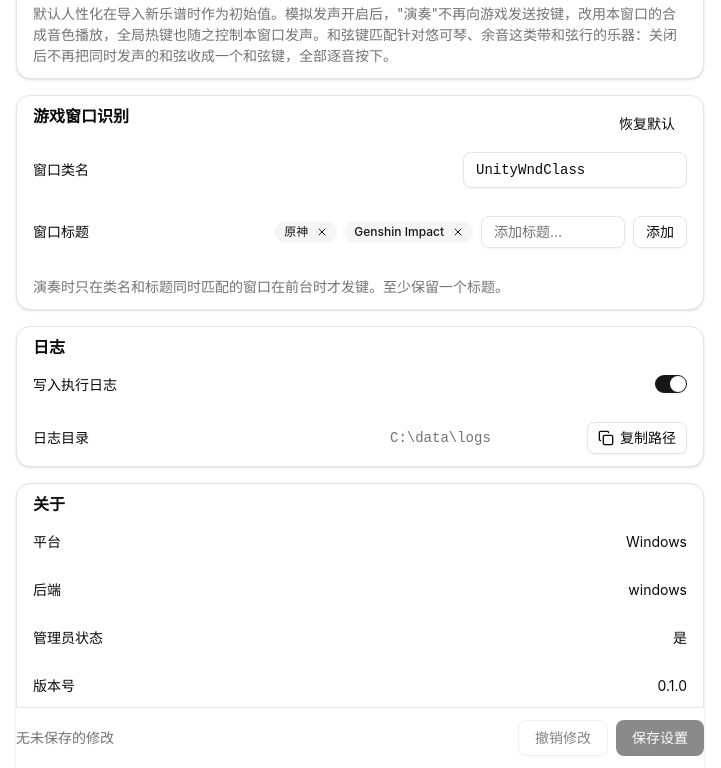
Test case: SettingsPage › 底部操作栏常驻：修改后按钮可用，撤销后回到禁用
The width and height of the screenshot is (721, 768).
(page scrolled)
expect the text "无未保存的修改" is shown: met, box [16,728,114,748]
expect the button "保存设置" is disabled: met, box [616,720,704,756]
Click the switch named "写入执行日志" at (671, 384), box [655,375,687,393]
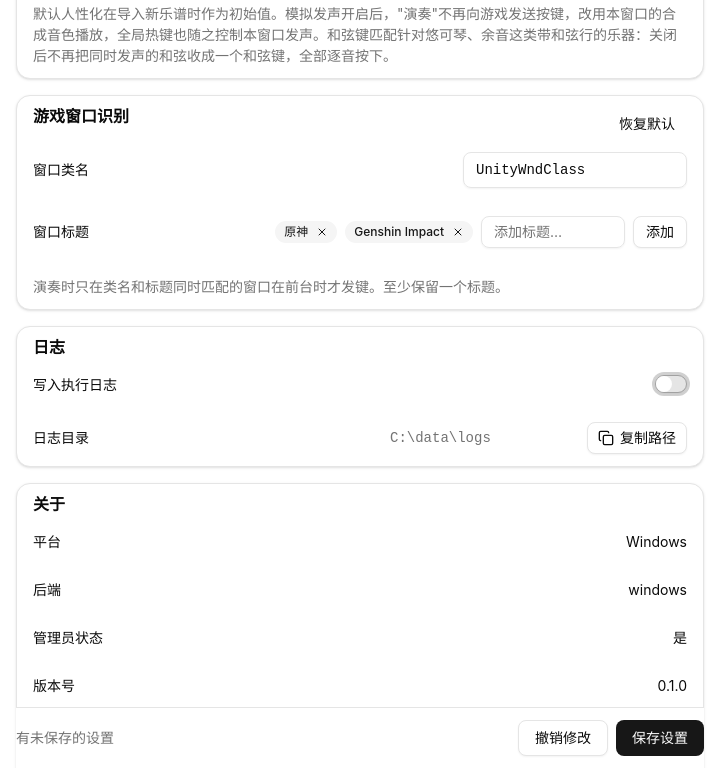
expect the switch named "写入执行日志" is not checked: met, box [655,375,687,393]
expect the text "有未保存的设置" is shown: met, box [16,728,114,748]
expect the button "保存设置" is enabled: met, box [616,720,704,756]
Click the button "撤销修改" at (563, 738), box [518,720,608,756]
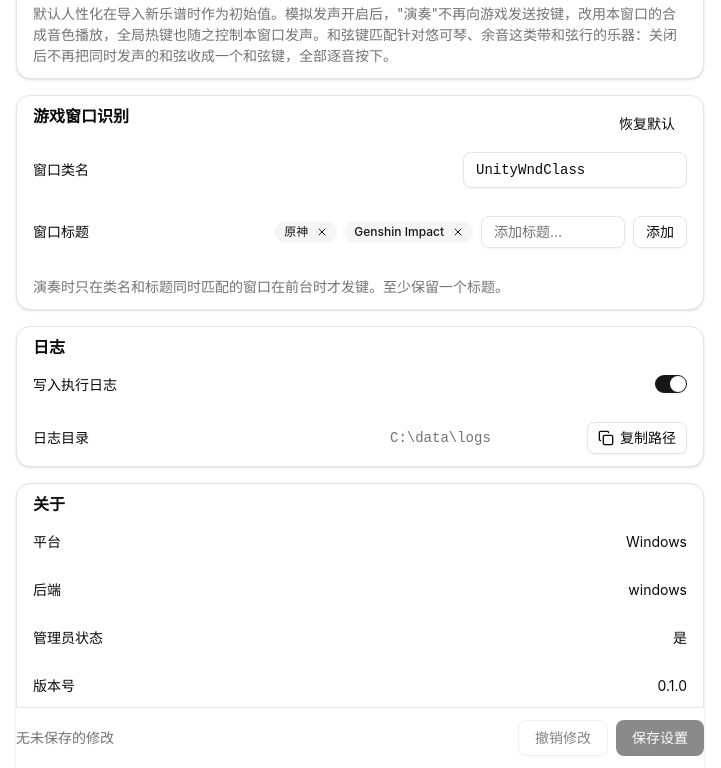
expect the switch named "写入执行日志" is checked: met, box [655,375,687,393]
expect the text "无未保存的修改" is shown: met, box [16,728,114,748]
expect the button "保存设置" is disabled: met, box [616,720,704,756]
